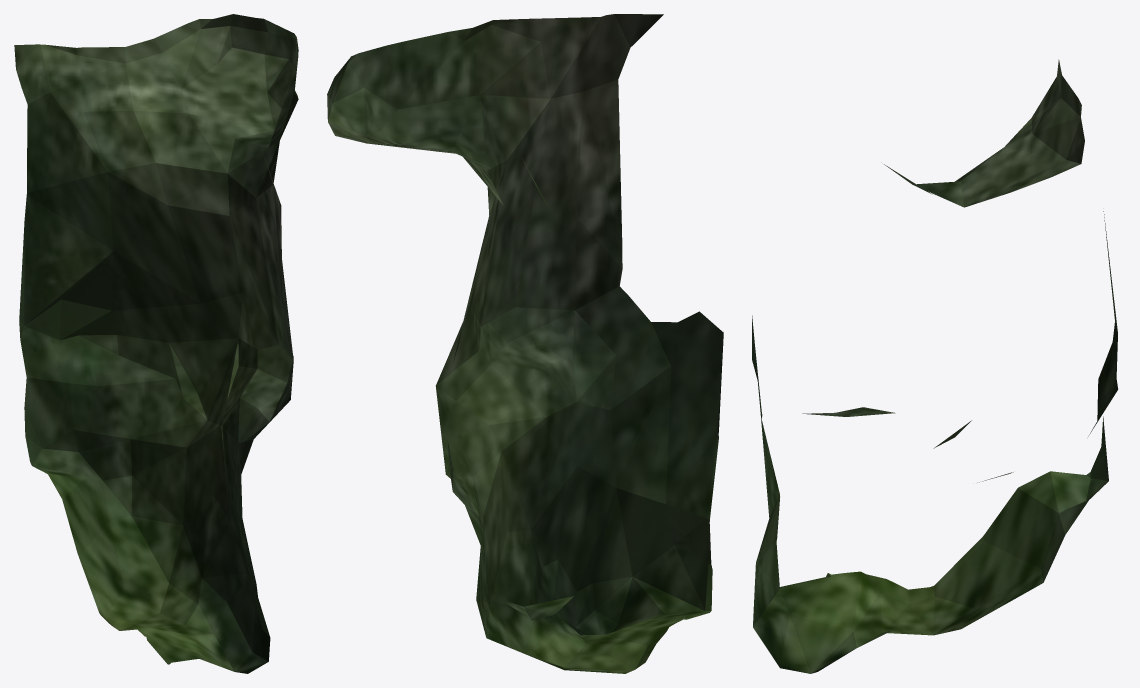
3 views of the same model, side by side, from view 1: azimuth 30°, elevation 25°; view 2: azimuth 150°, elevation 25°; view 3: azimuth 270°, elevation 25° (orthographic). The views are drawn at different scales.
Bounding box in the file's own units: 1.8 × 4.12 × 2.27.
Materials: 1 (1 with a texture image).
